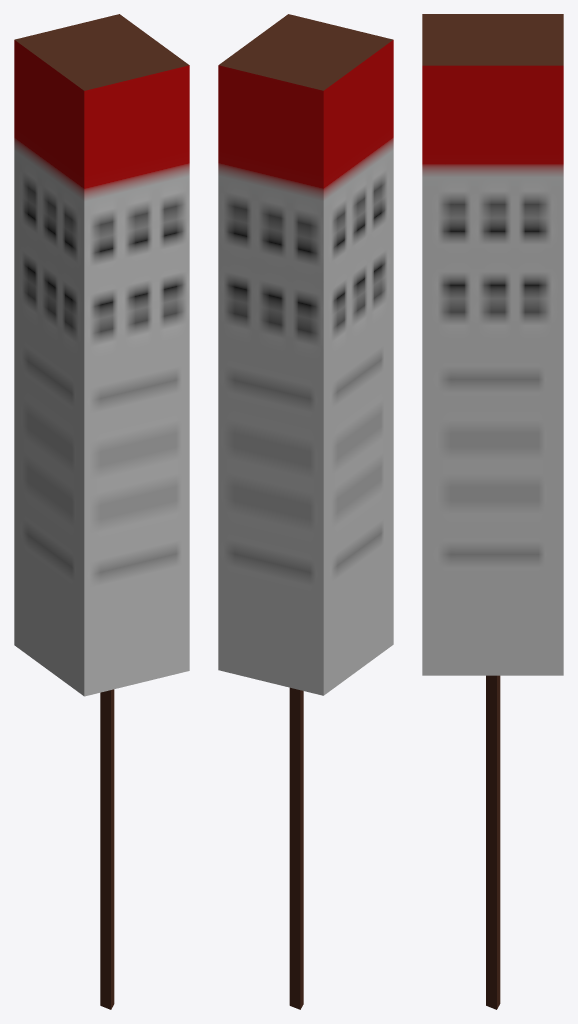
Rendered from Prop_Sign_BusStop_col.fbx.
3 views of the same model, side by side, from view 1: azimuth 30°, elevation 25°; view 2: azimuth 150°, elevation 25°; view 3: azimuth 270°, elevation 25° (orthographic).
Visible parts, largest first — view 1: Prop_Sign_BusStop_col; view 2: Prop_Sign_BusStop_col; view 3: Prop_Sign_BusStop_col.
Boxes of the visible parts, bbox=[...] form: Prop_Sign_BusStop_col: bbox=[14, 14, 189, 1009]; Prop_Sign_BusStop_col: bbox=[218, 14, 393, 1009]; Prop_Sign_BusStop_col: bbox=[422, 14, 563, 1009].
Bounding box in the file's own units: 40 × 347 × 46.1.
